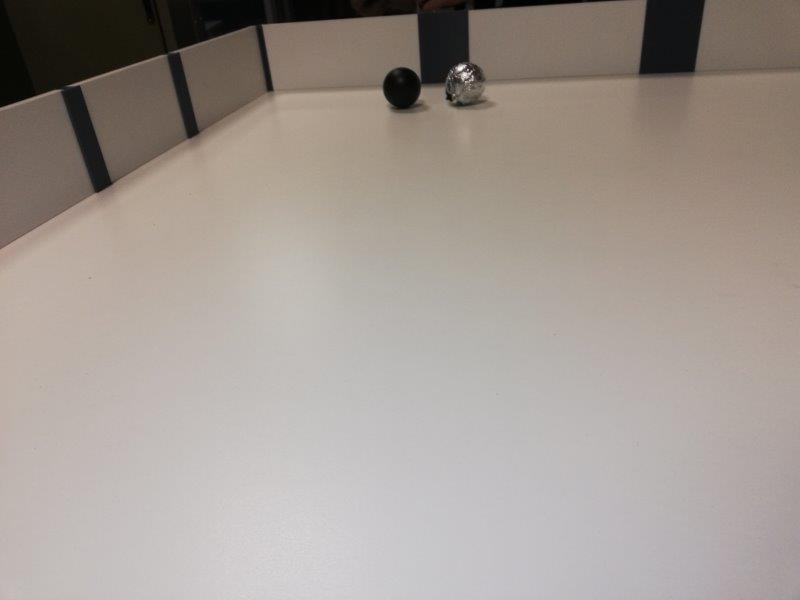bianca: (445, 63, 487, 105)
nera: (383, 67, 420, 108)
